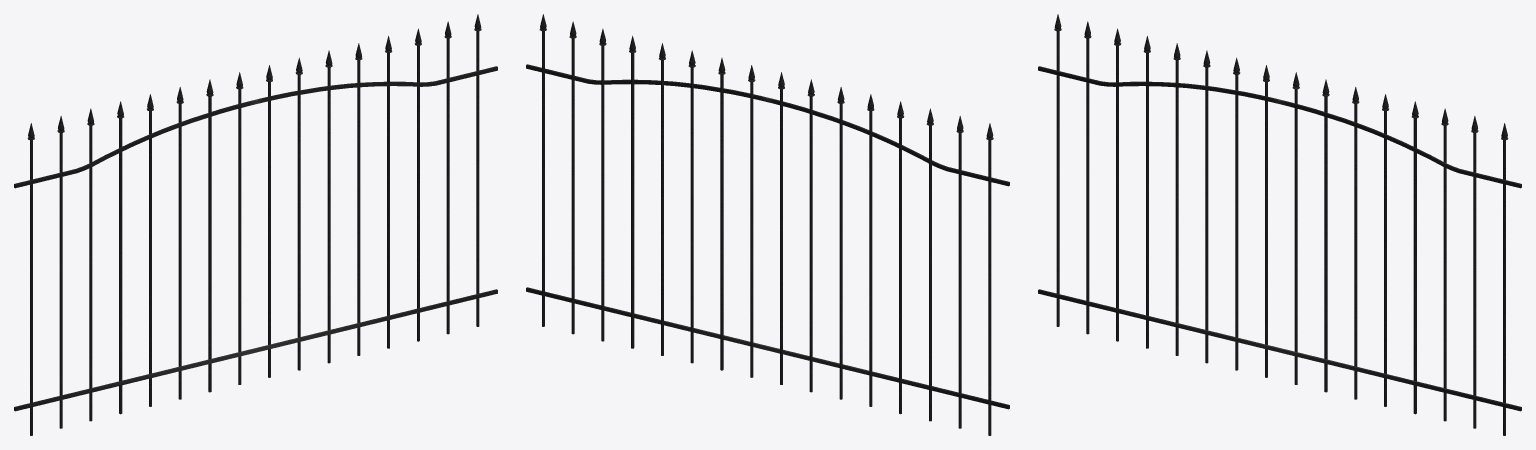
Rendered from vallae.obj.
3 renders of one model, left to right at view 1: azimuth 30°, elevation 25°; view 2: azimuth 150°, elevation 25°; view 3: azimuth 330°, elevation 25°, orthographic.
Visible parts, largest first — view 1: IronFence; view 2: IronFence; view 3: IronFence.
Boxes of the visible parts, x1,y1,x2,y2 form: IronFence: (14,14,497,435); IronFence: (526,14,1009,435); IronFence: (1038,14,1521,435).
Bounding box in the file's own units: 112 × 69.43 × 1.54.
1 material, 1 textured.
